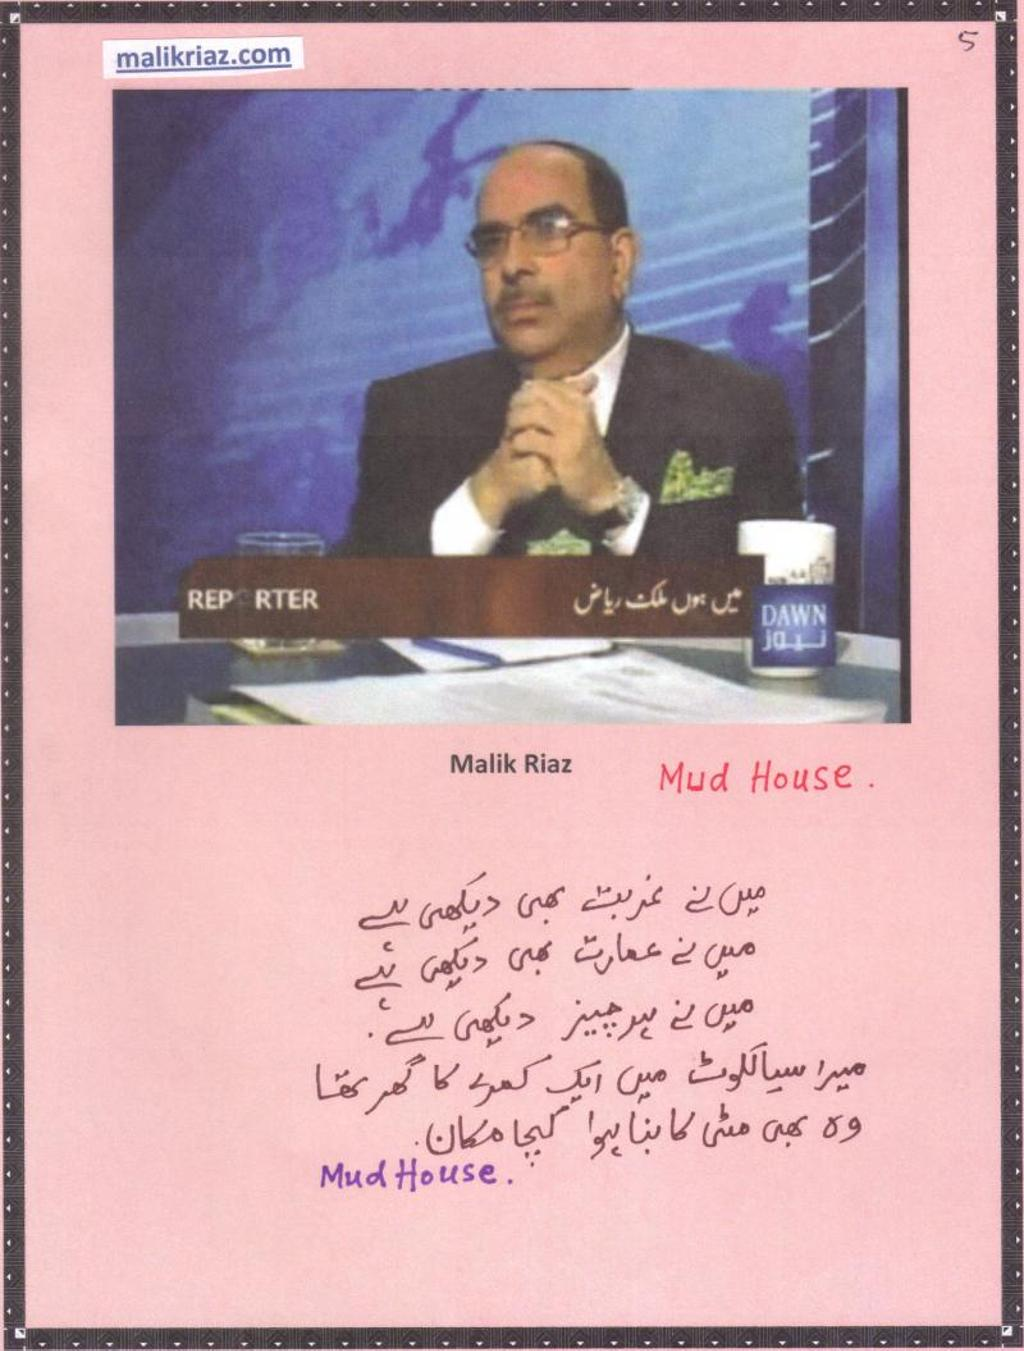face: (480, 158, 615, 353)
